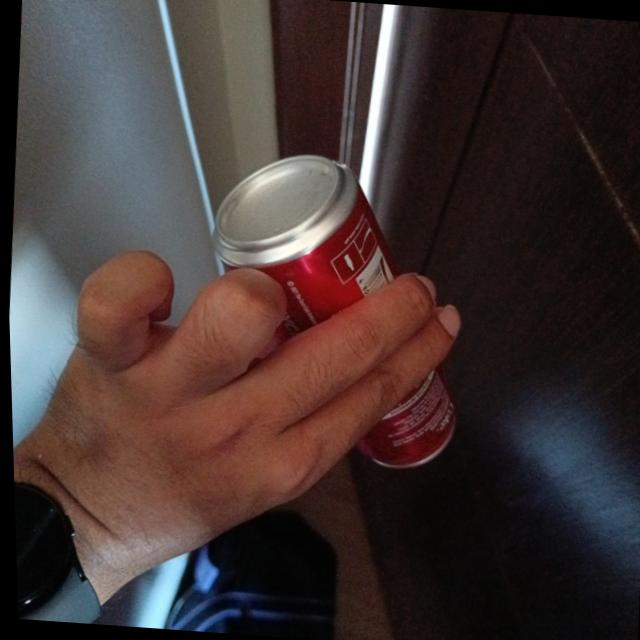coke: (192, 146, 471, 470)
